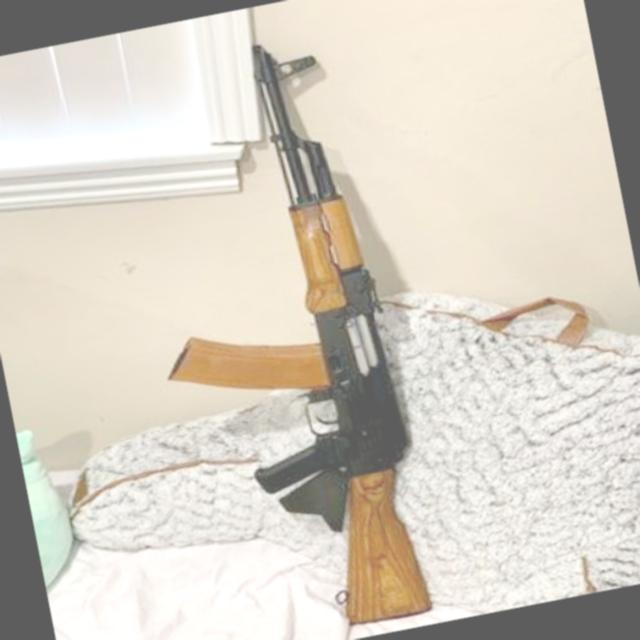ak: (99, 26, 466, 640)
